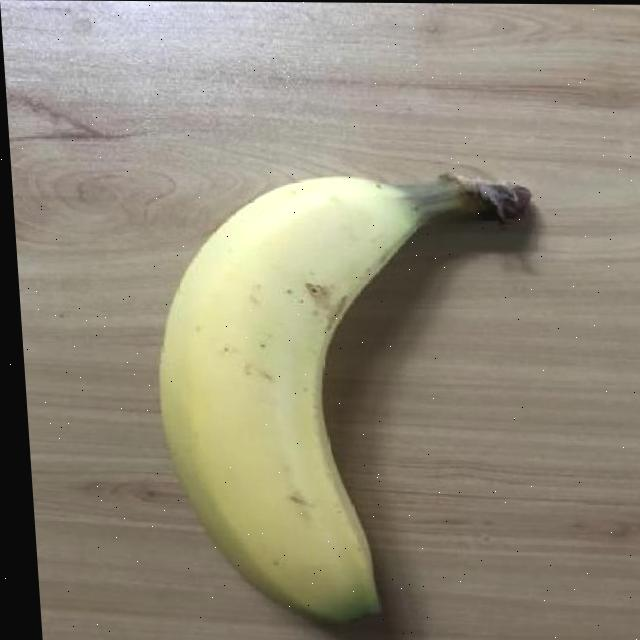banana: (143, 162, 559, 640)
